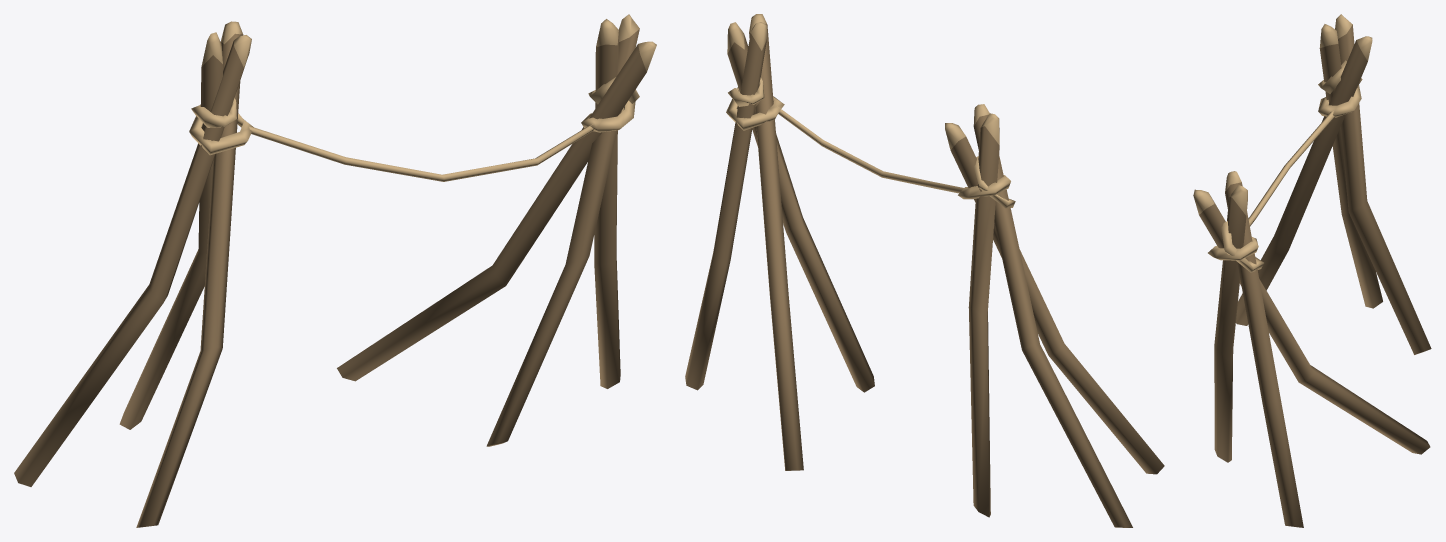
The model's file is rpgpp_av_hanger_wood_04.gltf.
3 renders of one model, left to right at view 1: azimuth 30°, elevation 25°; view 2: azimuth 150°, elevation 25°; view 3: azimuth 270°, elevation 25°, orthographic. The views are drawn at different scales.
Parts seen in each view (by area): view 1: rpgpp_av_hanger_wood_04; view 2: rpgpp_av_hanger_wood_04; view 3: rpgpp_av_hanger_wood_04.
Part boxes in pixels (x1,y1,x2,y2): rpgpp_av_hanger_wood_04: [14, 14, 656, 527]; rpgpp_av_hanger_wood_04: [685, 14, 1164, 527]; rpgpp_av_hanger_wood_04: [1193, 14, 1431, 527].
Size of the model in its own units: 0.0374 by 0.0271 by 0.0162.
1 material, 1 textured.
